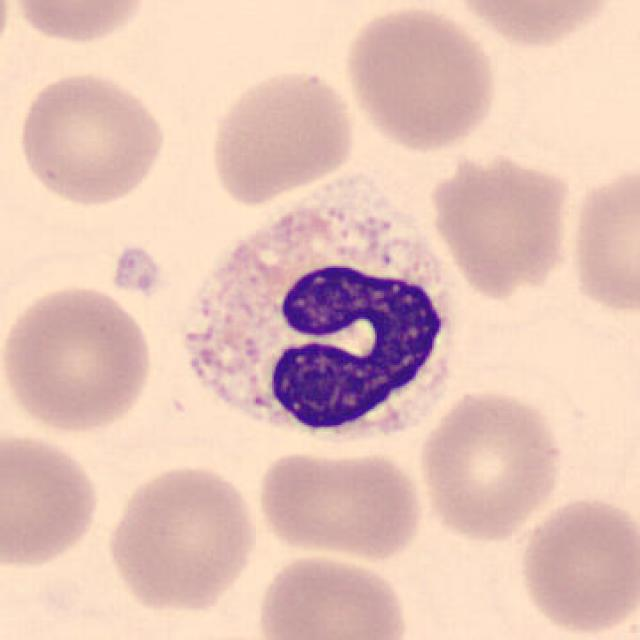Neutrophil: (178, 182, 476, 444)
Platelets: (110, 242, 167, 299)
RBC: (101, 460, 262, 617), (414, 384, 569, 545), (339, 2, 502, 155), (0, 280, 158, 436), (425, 148, 576, 300), (12, 67, 169, 210), (205, 65, 359, 208), (251, 444, 428, 562), (512, 492, 638, 638), (0, 427, 103, 571), (252, 550, 412, 640), (564, 157, 638, 319), (446, 0, 622, 49), (5, 0, 155, 48)
